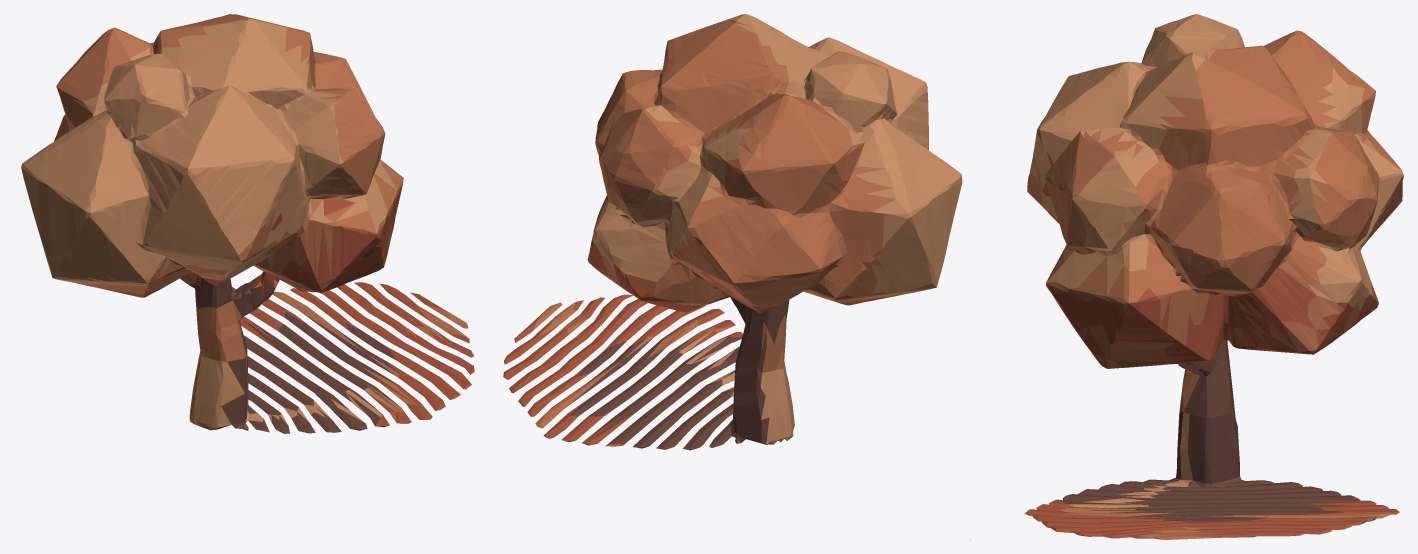
Rendered from tree_autumn.glb.
The picture shows the model from 3 angles, left to right: view 1: azimuth 30°, elevation 25°; view 2: azimuth 150°, elevation 25°; view 3: azimuth 270°, elevation 25°; orthographic projection. The views are drawn at different scales.
Visible parts, largest first — view 1: geometry_0; view 2: geometry_0; view 3: geometry_0.
Boxes of the visible parts, left/top/right/bottom form: geometry_0: left=21, top=14, right=474, bottom=433; geometry_0: left=503, top=14, right=970, bottom=539; geometry_0: left=1025, top=14, right=1403, bottom=539.
Size of the model in its own units: 1.98 by 1.98 by 1.37.
